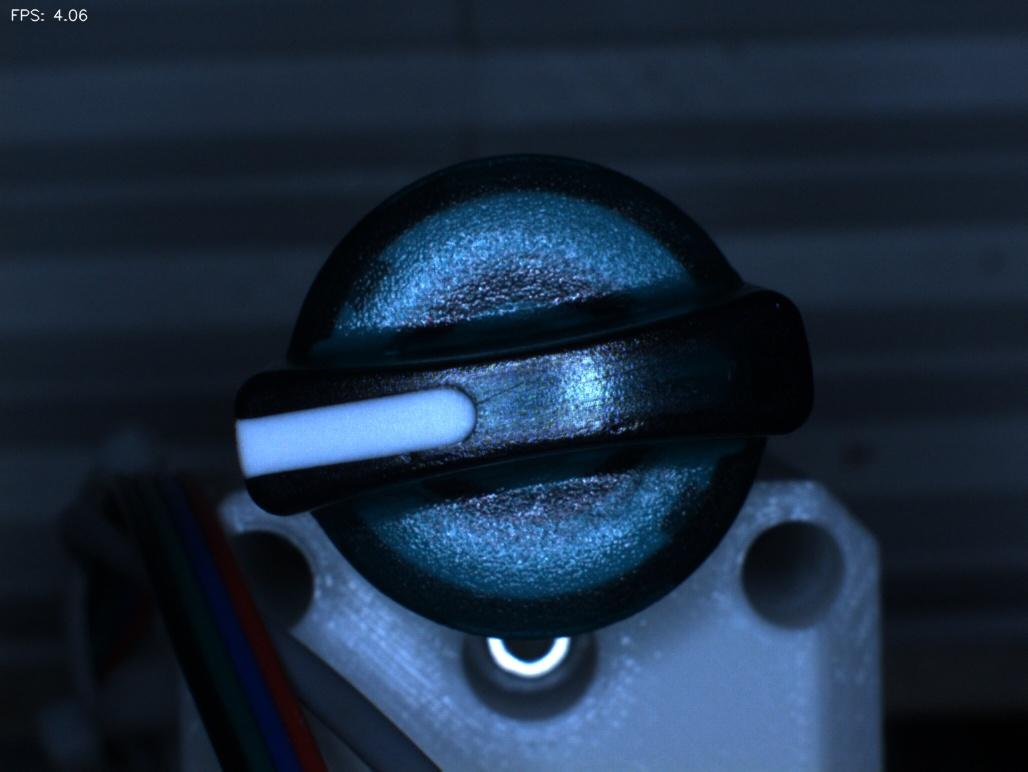Choc: (379, 428, 445, 491)
